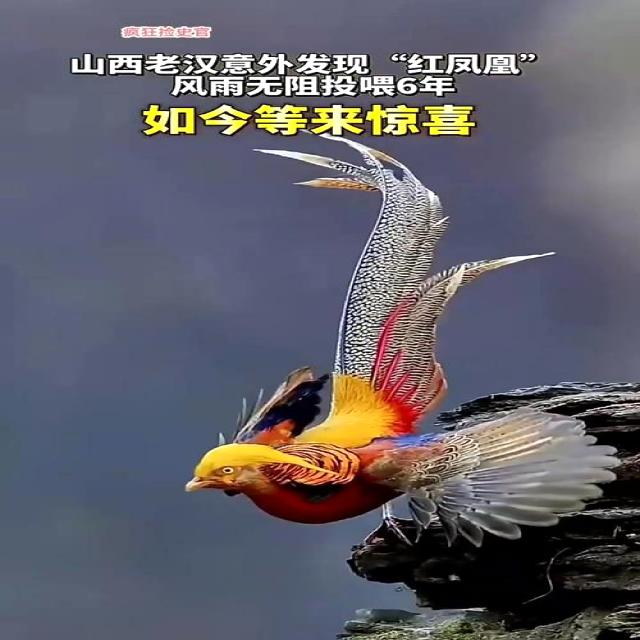Chrysolophus pictus feather: (255, 143, 547, 426)
